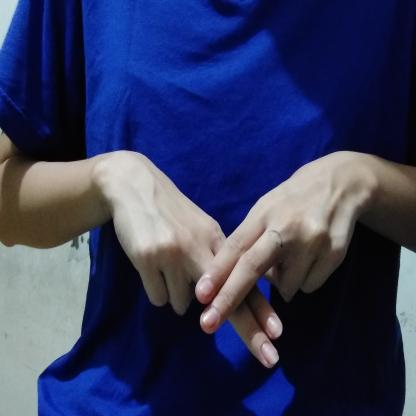father: (87, 142, 401, 376)
